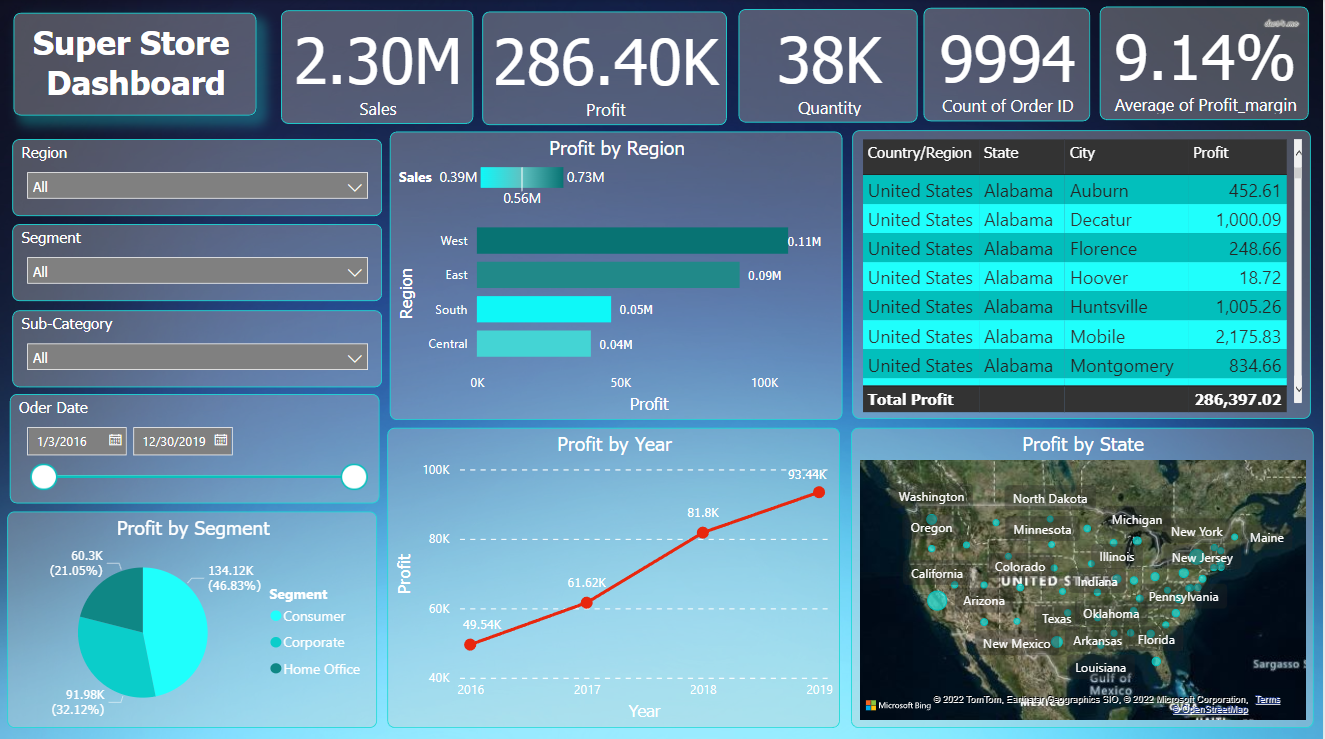

Layout of this report page (visuals, bound fields, positions):
{"tool":"powerbi","page":{"name":"Profit","canvas":[1280,720],"ordinal":1},"visuals":[{"type":"textbox","box":[16.5,13.7,234.6,98.9],"z":0},{"type":"slicer","title":"Region","fields":{"Values":["Orders.Region"]},"box":[15.1,134.9,357.1,74.2],"z":1000},{"type":"slicer","title":"Segment","fields":{"Values":["Orders.Segment"]},"box":[16.2,216.7,357.1,74.2],"z":2000},{"type":"slicer","title":"Sub-Category","fields":{"Values":["Orders.Sub-Category"]},"box":[15.1,300.2,357.1,74.2],"z":3000},{"type":"slicer","title":"Oder Date","fields":{"Values":["Orders.Order Date"]},"box":[13.7,381.3,357.1,105.8],"z":4000},{"type":"pieChart","title":" Profit by Segment","fields":{"Category":["Orders.Segment"],"Y":["Sum(Orders.Profit)"]},"box":[11,494.1,357.1,209],"z":5000},{"type":"lineChart","title":" Profit by Year","fields":{"Y":["Sum(Orders.Profit)"],"Category":["Orders.Order Date.Variation.Date Hierarchy.Year"]},"box":[377.7,413.4,436.7,289.8],"z":6000},{"type":"map","title":" Profit by State","fields":{"Size":["Sum(Orders.Sales)"],"Category":["Orders.State"]},"box":[824.9,413.4,446,289.8],"z":7000},{"type":"tableEx","title":"Sales by Segment","fields":{"Values":["Orders.Country/Region","Orders.State","Orders.City","Sum(Orders.Profit)"]},"box":[826.2,126.4,442.8,278.8],"z":8000},{"type":"barChart","title":" Profit by Region","fields":{"Category":["Orders.Region"],"Y":["Sum(Orders.Profit)"]},"box":[380.2,127.7,437,278.8],"z":9000},{"type":"card","title":"Sales by Segment","fields":{"Values":["Sum(Orders.Sales)"]},"box":[274.7,11.3,185.4,109.9],"z":10000},{"type":"card","title":"Sales by Segment","fields":{"Values":["Sum(Orders.Profit)"]},"box":[469.2,12.1,236.2,109.9],"z":11000},{"type":"card","title":"Sales by Segment","fields":{"Values":["Sum(Orders.Quantity)"]},"box":[715.8,9.6,173,109.9],"z":12000},{"type":"card","title":"Sales by Segment","fields":{"Values":["CountNonNull(Orders.Order ID)"]},"box":[895.2,8.8,160.7,109.9],"z":13000},{"type":"card","title":"Sales by Segment","fields":{"Values":["Avg(Orders.Profit_margin)"]},"box":[1064.5,7.8,201.9,109.9],"z":14000}]}

Visuals, with their boxes in screenshot pixels (x1, y1, x2, y2), scaled from the page's 1280x720 canvas onto the 1325x739 screenshot:
textbox: 17/14/260/116
"Region" slicer: 16/138/385/215
"Segment" slicer: 17/222/386/299
"Sub-Category" slicer: 16/308/385/384
"Oder Date" slicer: 14/391/384/500
" Profit by Segment" pieChart: 11/507/381/722
" Profit by Year" lineChart: 391/424/843/722
" Profit by State" map: 854/424/1316/722
"Sales by Segment" tableEx: 855/130/1314/416
" Profit by Region" barChart: 394/131/846/417
"Sales by Segment" card: 284/12/476/124
"Sales by Segment" card: 486/12/730/125
"Sales by Segment" card: 741/10/920/123
"Sales by Segment" card: 927/9/1093/122
"Sales by Segment" card: 1102/8/1311/121
